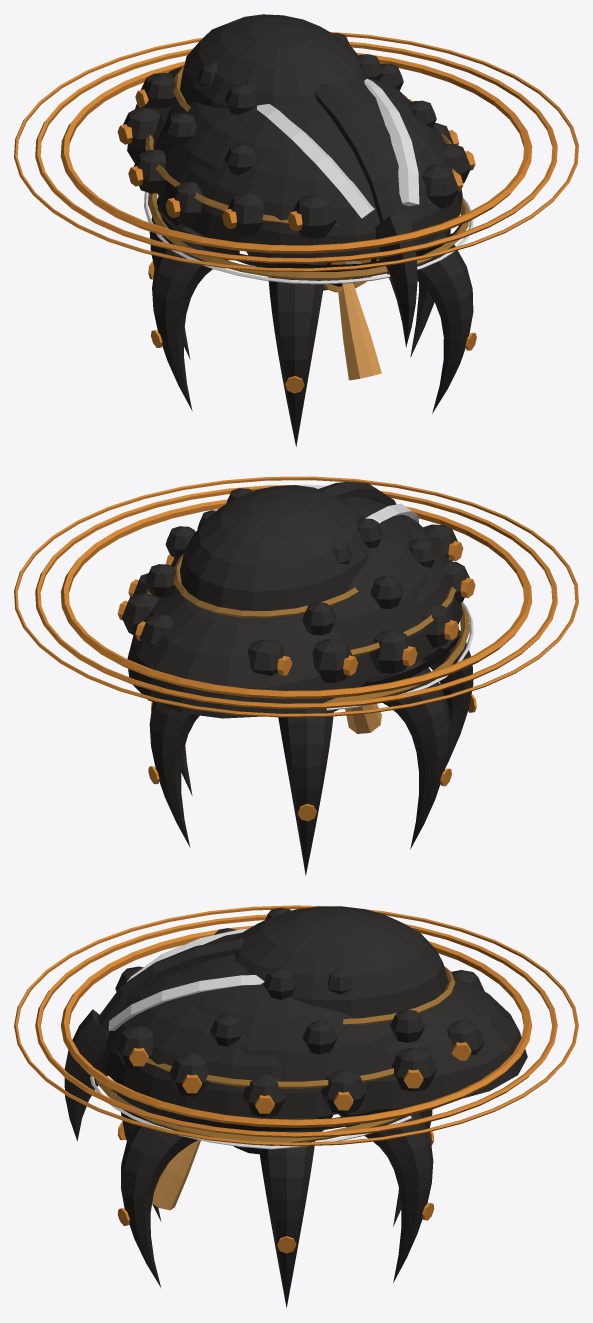
File: gunship_t3.glb
3 views of the same model, one above another, from view 1: azimuth 30°, elevation 25°; view 2: azimuth 150°, elevation 25°; view 3: azimuth 270°, elevation 25° (orthographic).
Parts seen in each view (by area): view 1: body; view 2: body; view 3: body.
Boxes of the visible parts, x1=… form: body: x1=14, y1=14, x2=578, y2=446; body: x1=14, y1=476, x2=578, y2=875; body: x1=14, y1=905, x2=578, y2=1307.
Size of the model in its own units: 14.69 by 9.73 by 14.69.
